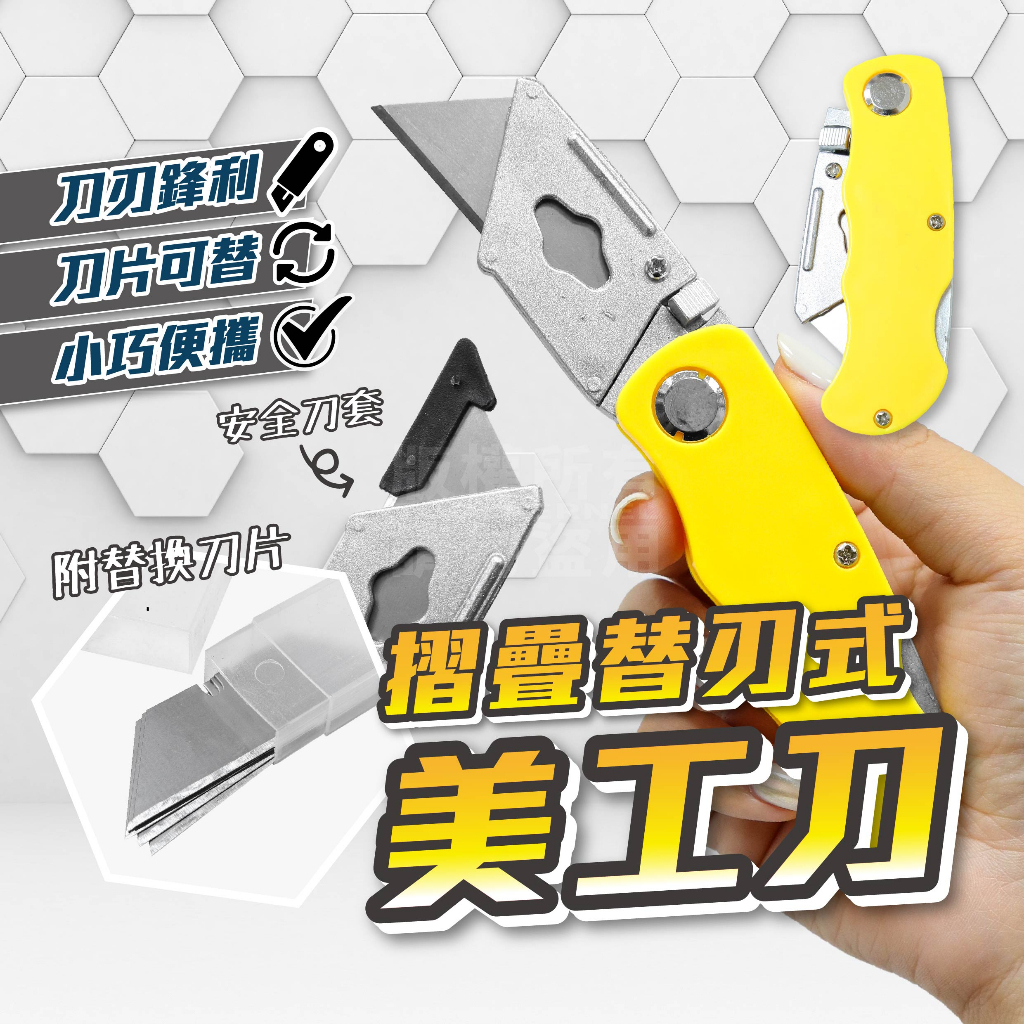cutter: (369, 75, 942, 720)
